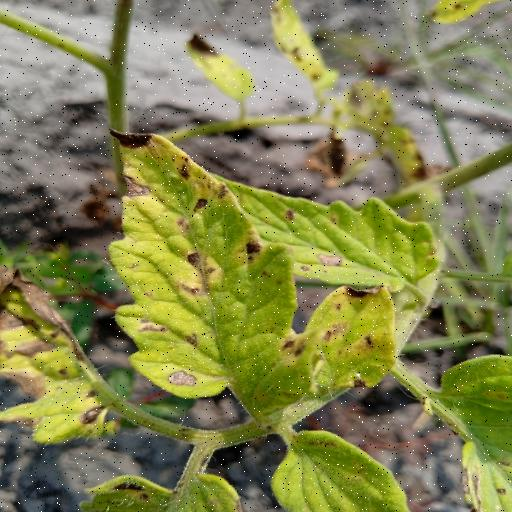Tomato_Brown_Spots: (102, 123, 329, 419)
